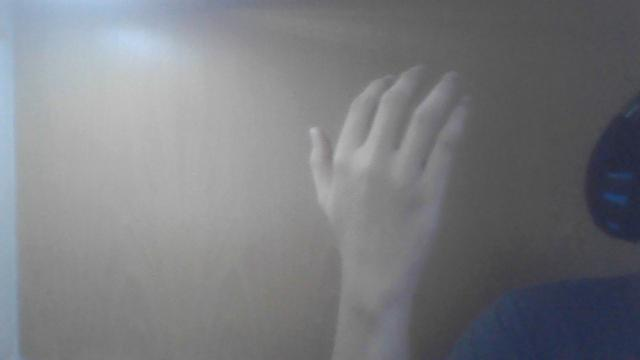backword: (307, 63, 471, 358)
